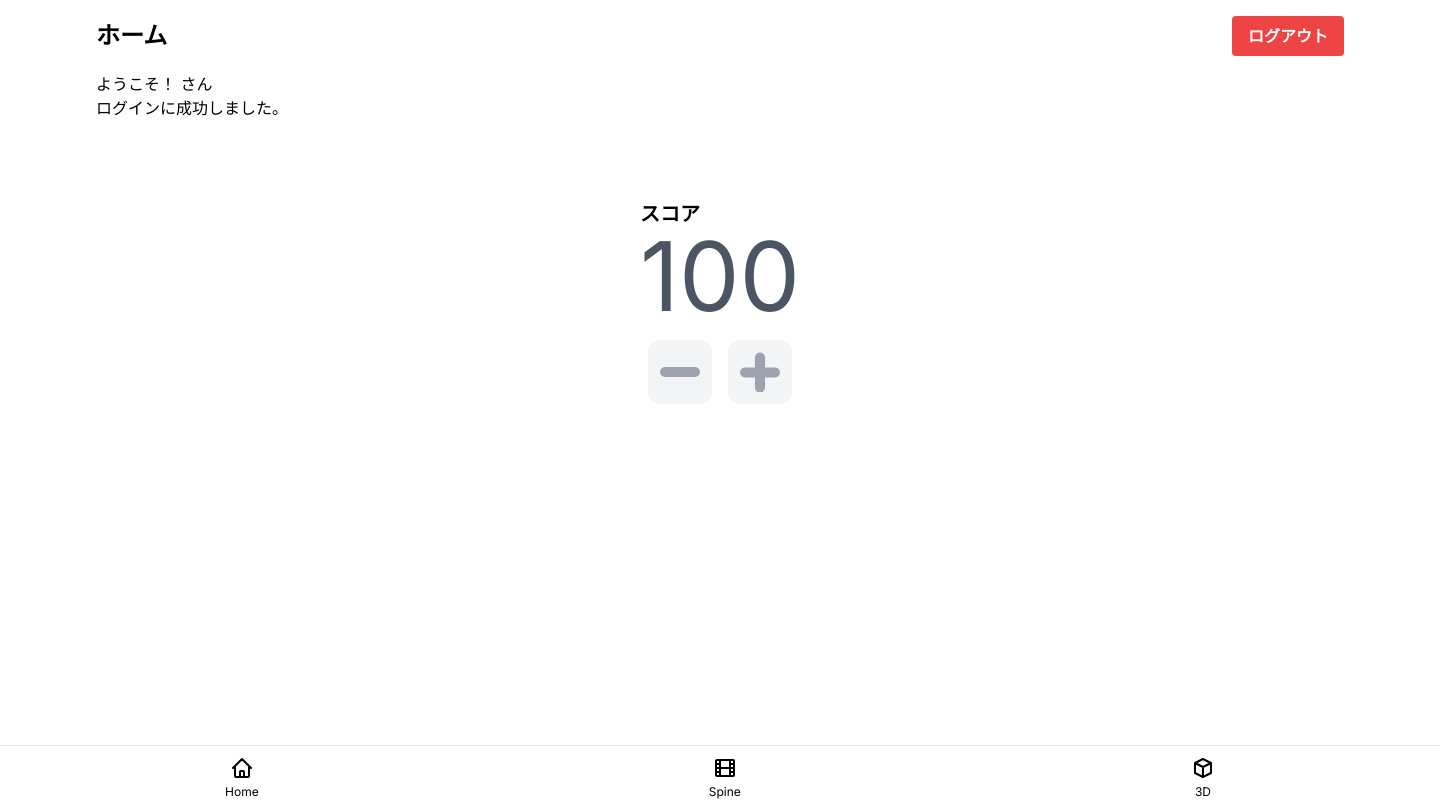
ホーム画面に関するテスト › プラスボタンを押したら１増えるか
Expected: the element with test id "score" shows "100", [640,218,800,334]
Click the button named "プラス": [760, 372] box [728,340,792,404]
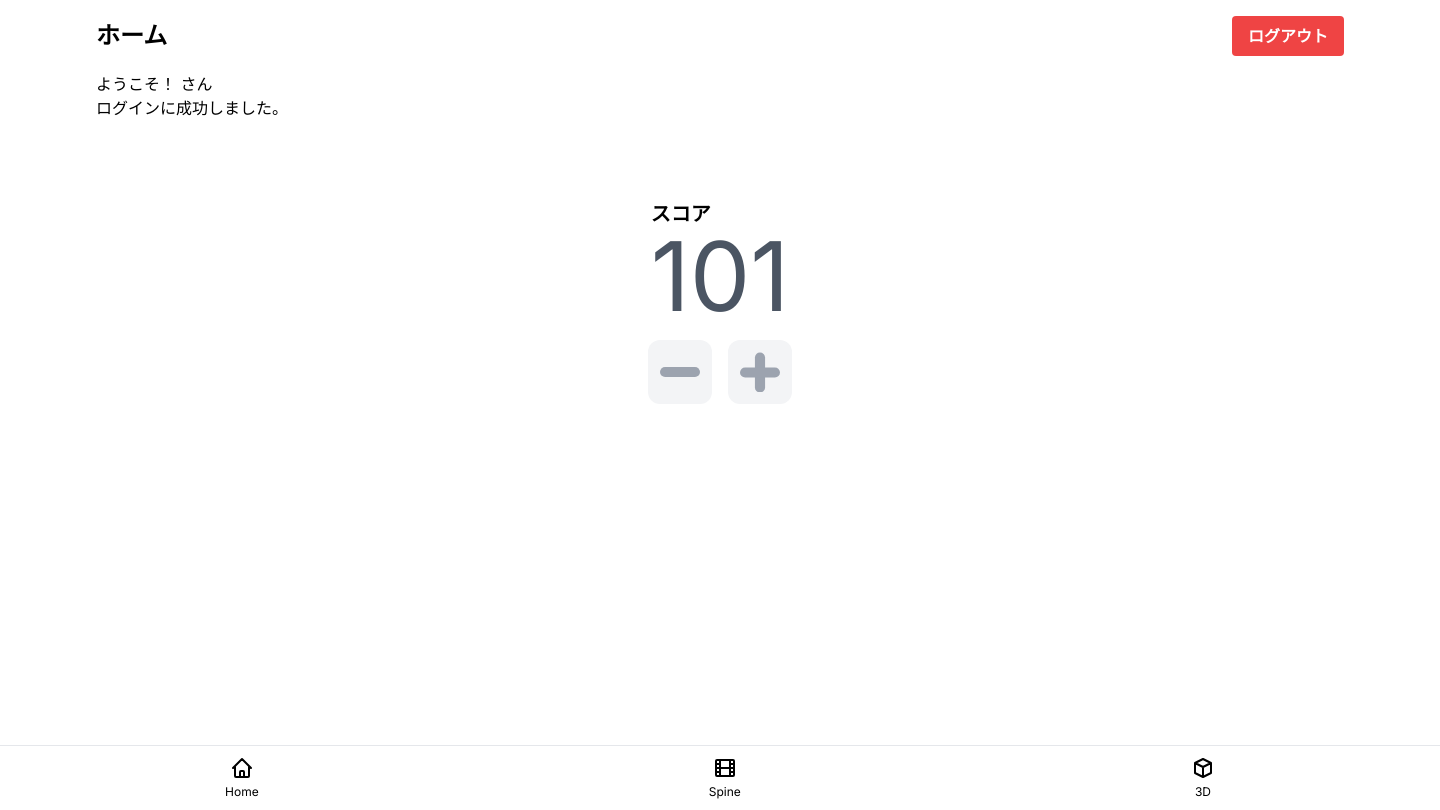
Expected: the element with test id "score" shows "101", [651,218,789,334]
